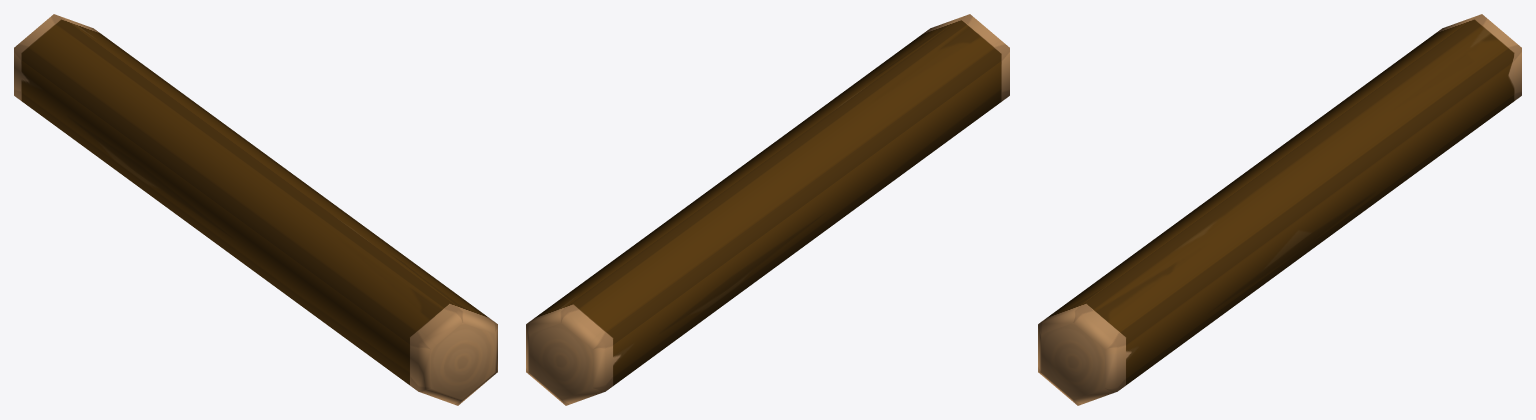
File: mod_building_palisade_pole_3.fbx
The picture shows the model from 3 angles, left to right: view 1: azimuth 30°, elevation 25°; view 2: azimuth 150°, elevation 25°; view 3: azimuth 330°, elevation 25°; orthographic projection.
Visible parts, largest first — view 1: mod_building_palisade_pole_c; view 2: mod_building_palisade_pole_c; view 3: mod_building_palisade_pole_c.
Part boxes in pixels (x1,y1,x2,y2): mod_building_palisade_pole_c: (14,14,497,405); mod_building_palisade_pole_c: (526,14,1009,405); mod_building_palisade_pole_c: (1038,14,1521,405).
Size of the model in its own units: 33.38 by 38.54 by 300.
